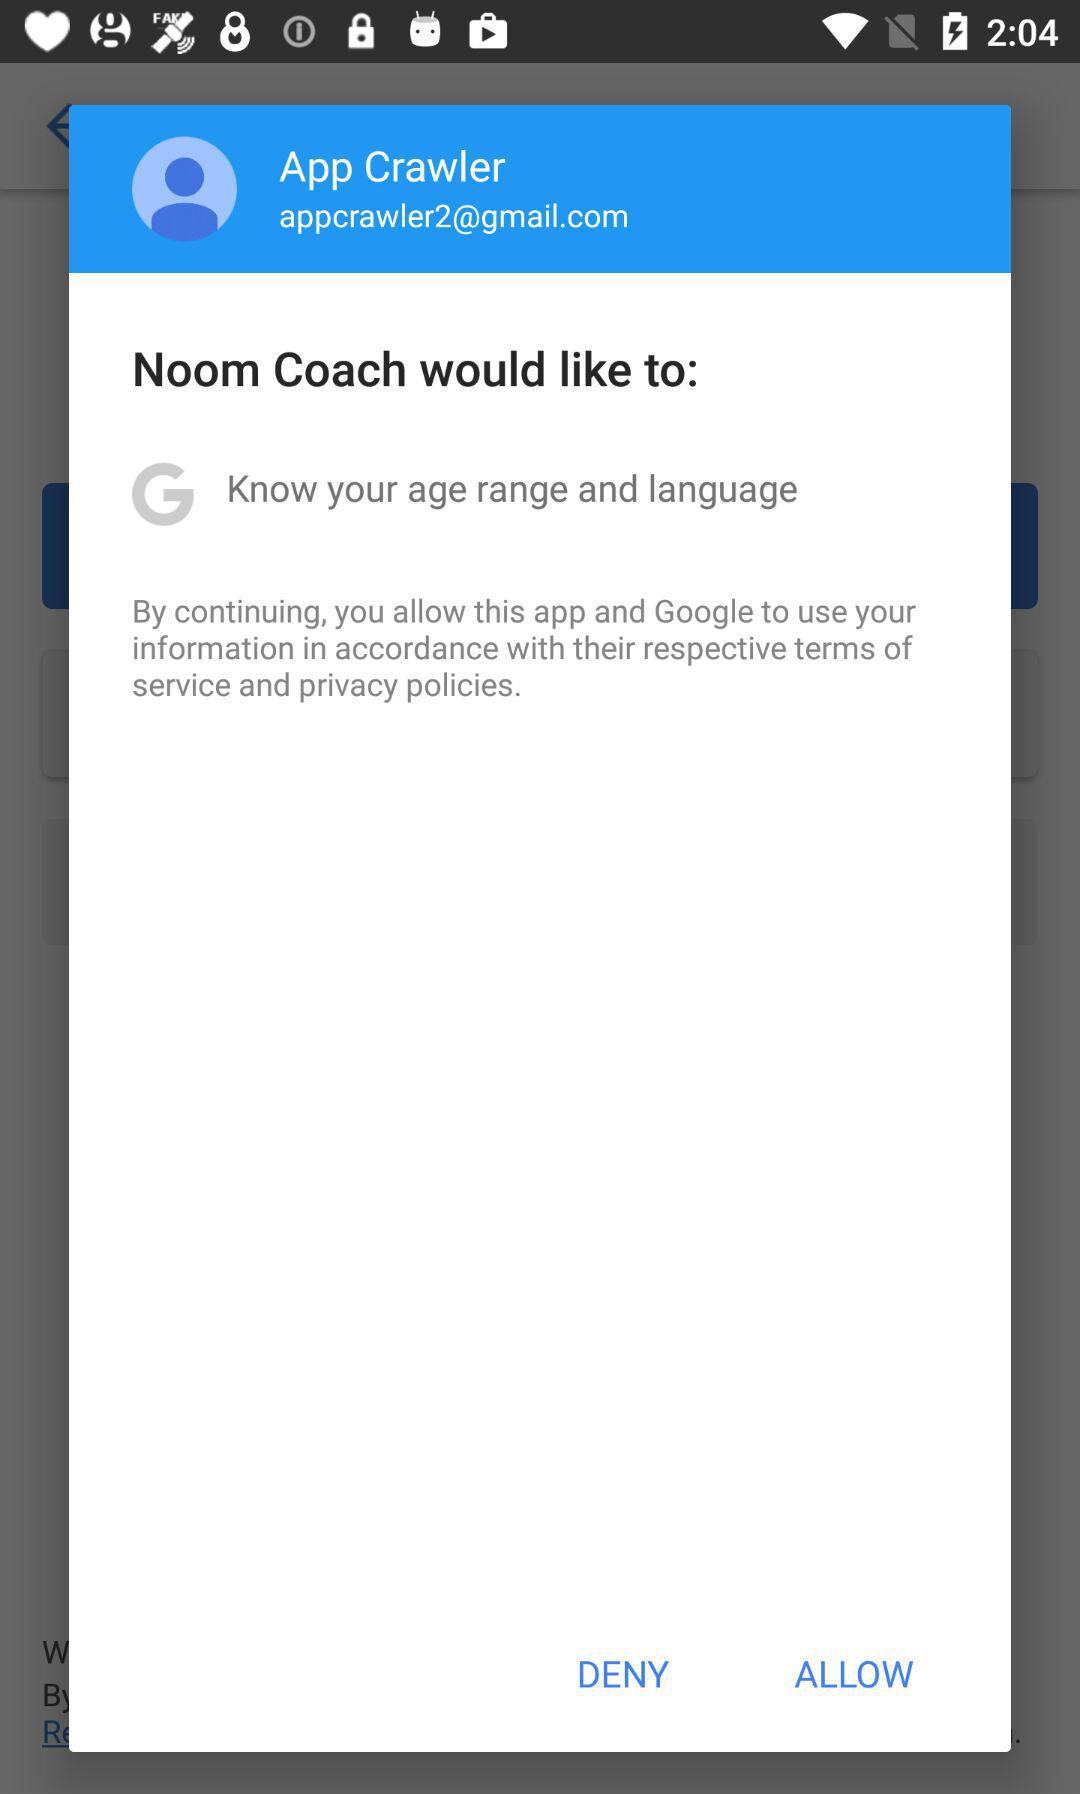Icon: (132, 136, 240, 243)
Modal: (69, 105, 1012, 1753)
Text: (133, 598, 917, 704), (228, 472, 799, 513), (135, 349, 697, 390), (279, 201, 629, 240), (279, 147, 507, 193), (131, 463, 196, 528), (794, 1659, 915, 1689), (579, 1658, 670, 1689)
UpperTaskBar: (1, 1, 1080, 64)
